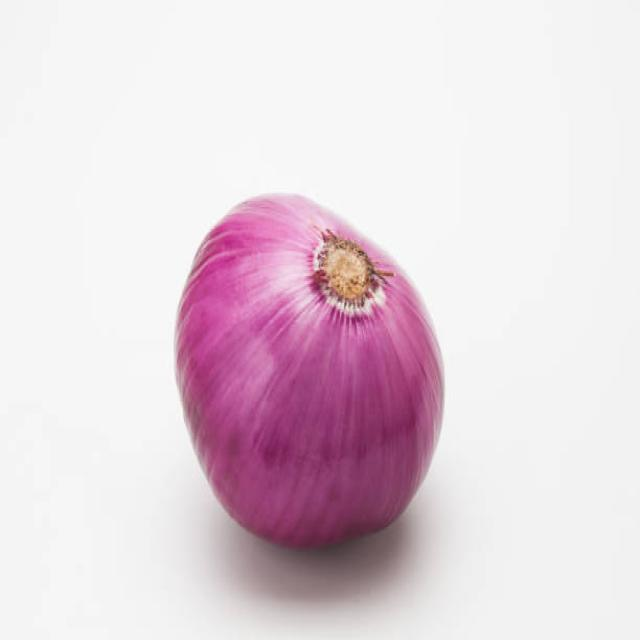onion: (172, 178, 450, 566)
